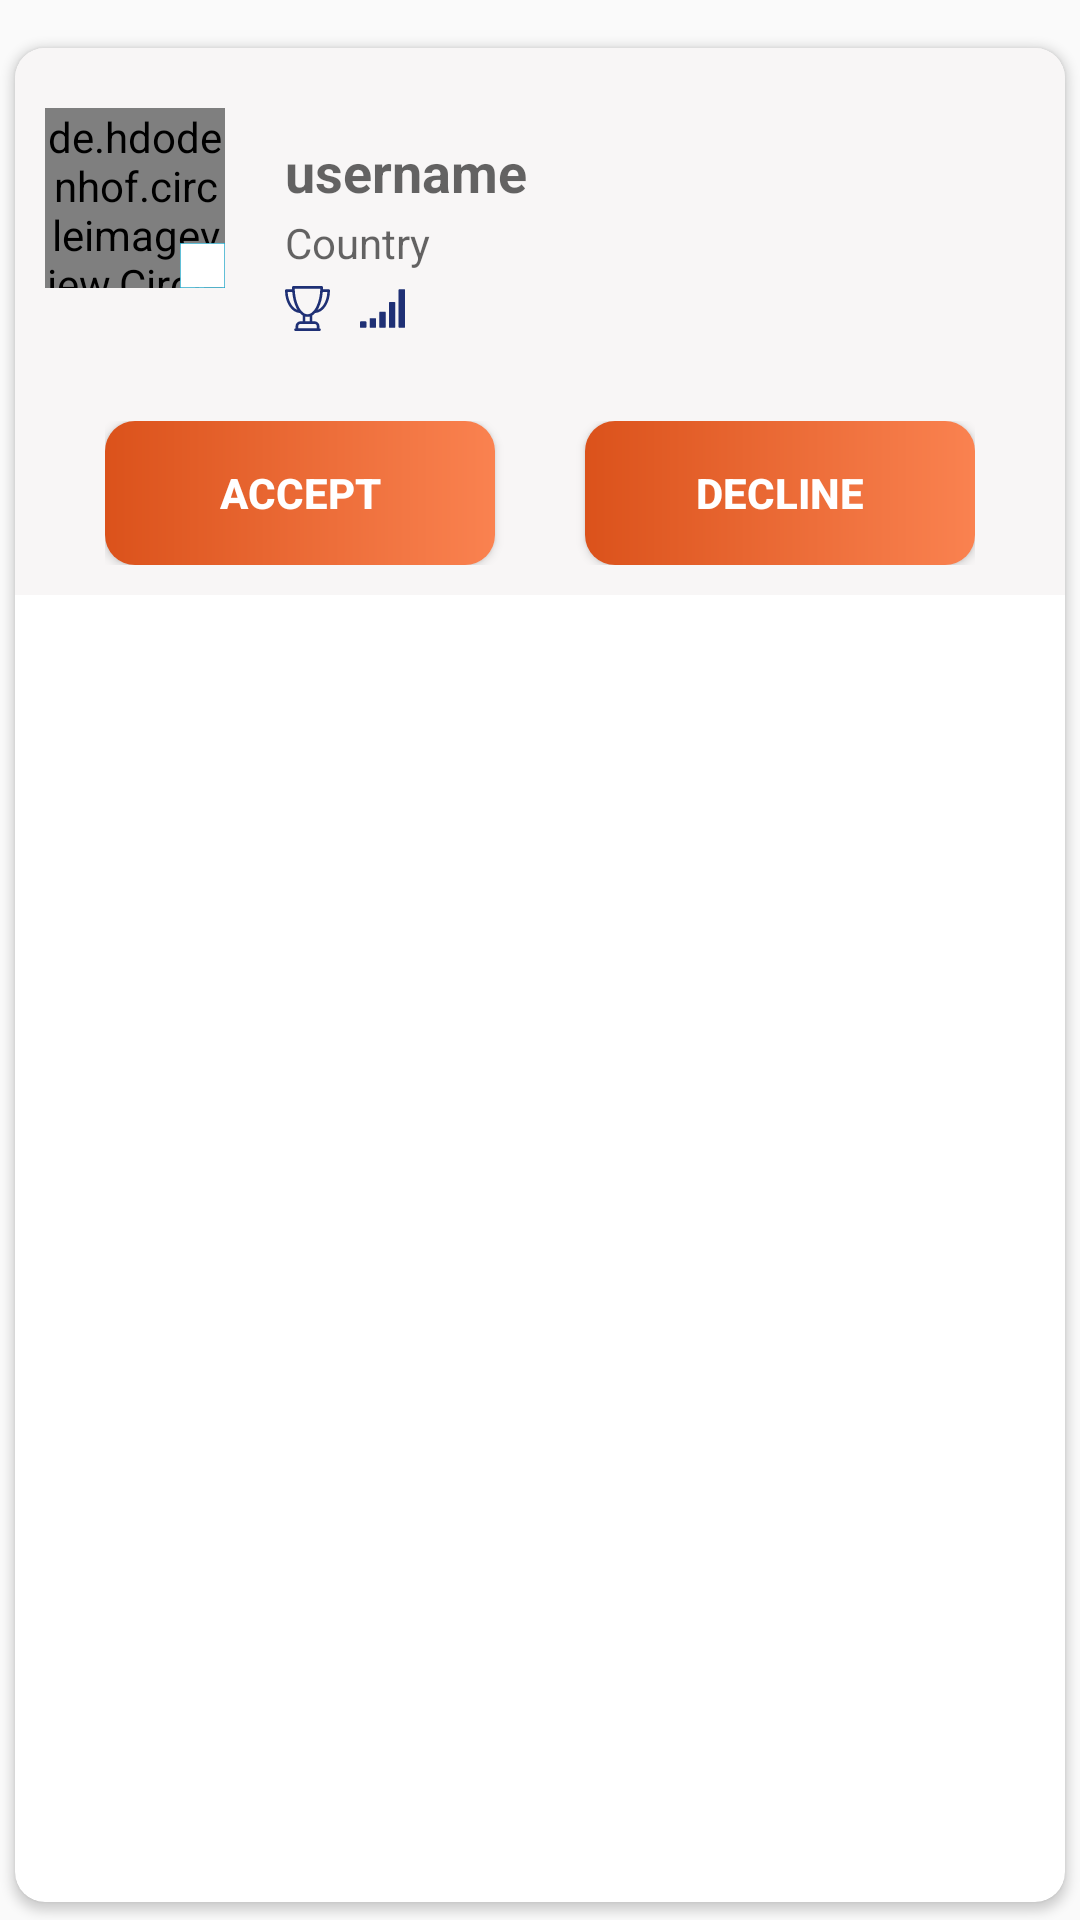

Named icons in this screenshot (1080x1920) and their bounding boxes, (x1, y1, x2, y2):
signal: (360, 289, 405, 328)
trophy: (285, 286, 330, 331)
